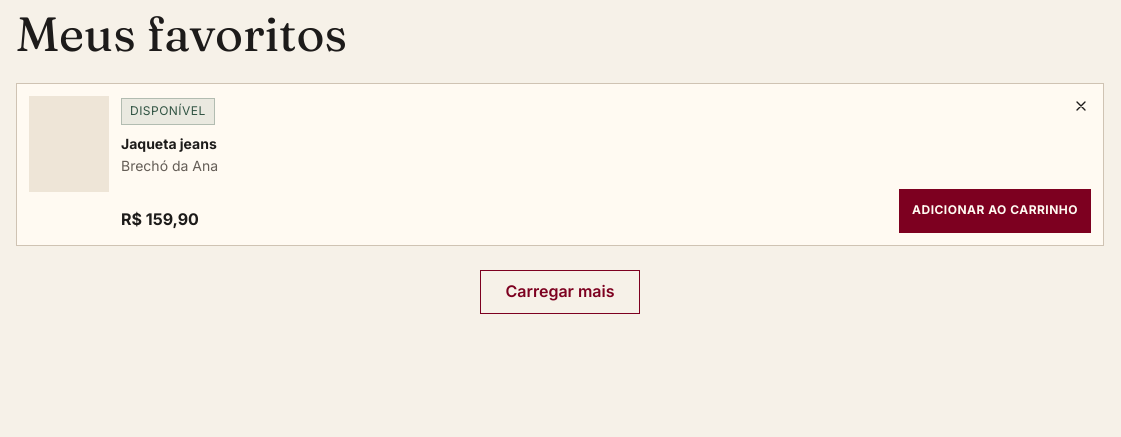
Scenario: <Favorites /> › carrega a próxima página quando a lista é maior que a primeira
The width and height of the screenshot is (1121, 437).
What coordinates should you click on to do the following:
click the button "Carregar mais"
I would click on:
 (560, 292)
Its box is [480,270,640,314].
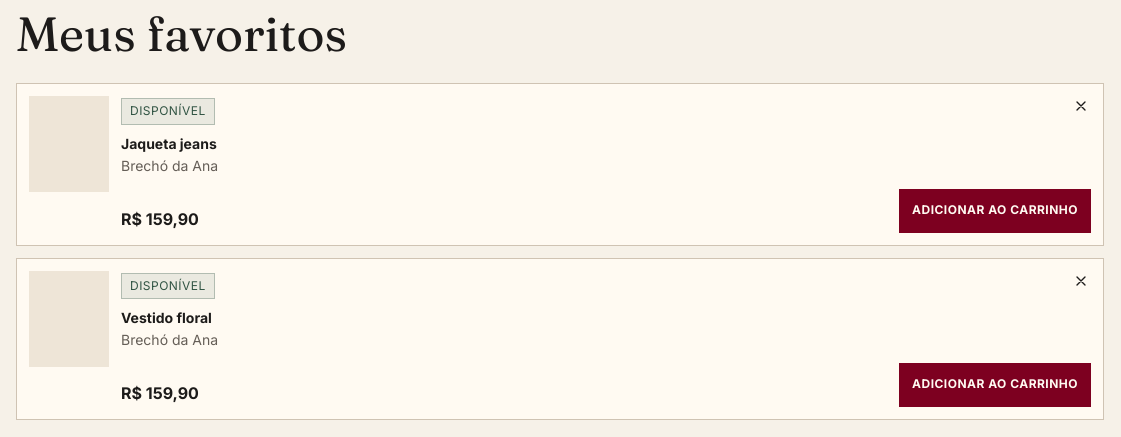
Expected: the button "Jaqueta jeans" is shown, [121,133,217,155]
Expected: the button "Vestido floral" is shown, [121,307,212,329]
Expected: the button "Carregar mais" is gone
